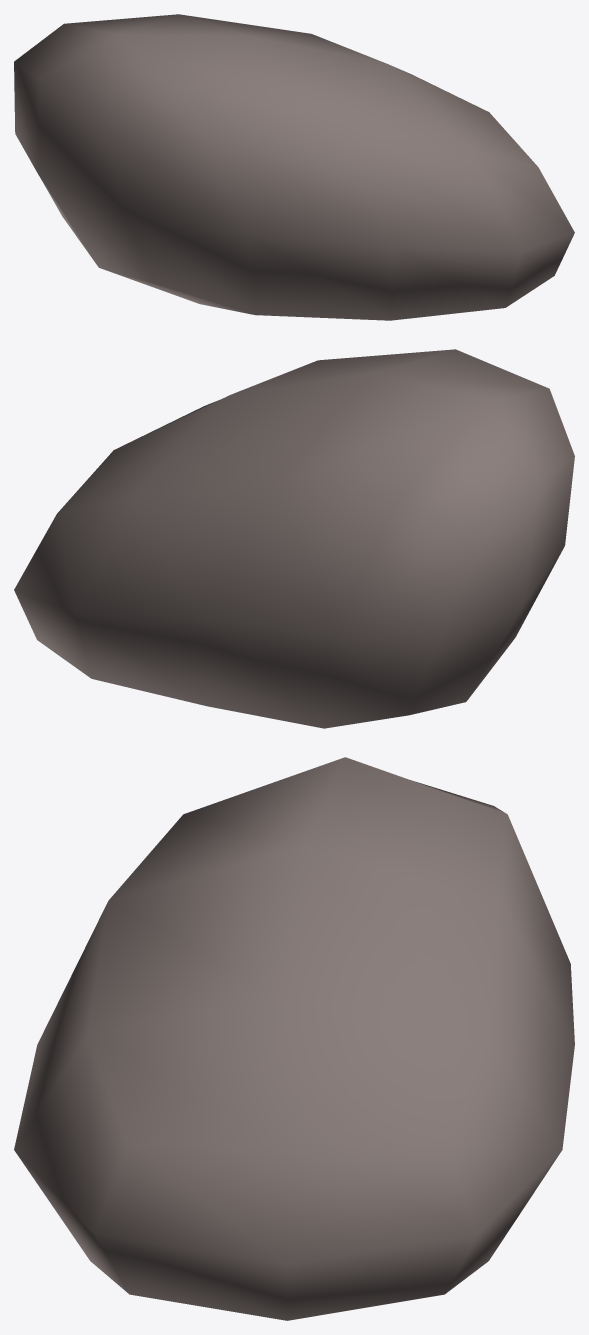
The model's file is Stone1.fbx.
The picture shows the model from 3 angles, top to bottom: view 1: azimuth 30°, elevation 25°; view 2: azimuth 150°, elevation 25°; view 3: azimuth 270°, elevation 25°; orthographic projection. The views are drawn at different scales.
Visible parts, largest first — view 1: Cube; view 2: Cube; view 3: Cube.
Part boxes in pixels (left/top/right/bottom): Cube: left=14, top=14, right=574, bottom=320; Cube: left=14, top=349, right=574, bottom=728; Cube: left=14, top=757, right=574, bottom=1320.
Size of the model in its own units: 95.23 by 60.89 by 83.48.
